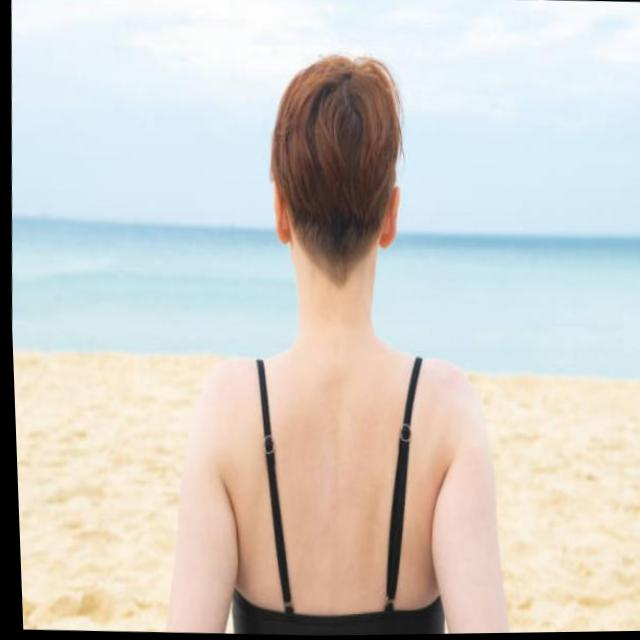no helmet: (258, 55, 411, 300)
